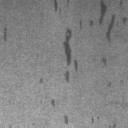red iron: (78, 0, 128, 44), (62, 27, 78, 82), (100, 56, 108, 66), (53, 0, 58, 12), (3, 27, 7, 41), (50, 99, 56, 108), (64, 116, 69, 125), (112, 124, 117, 128), (92, 117, 94, 124)
